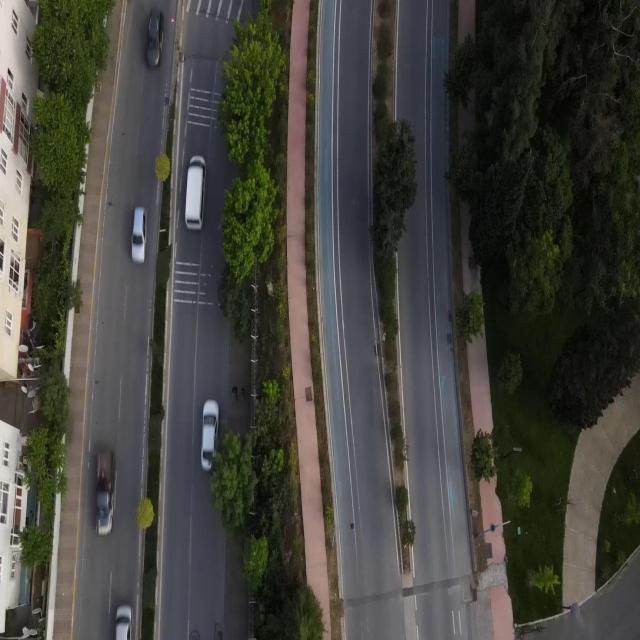p3rson: (232, 386, 238, 403), (240, 387, 246, 398)
